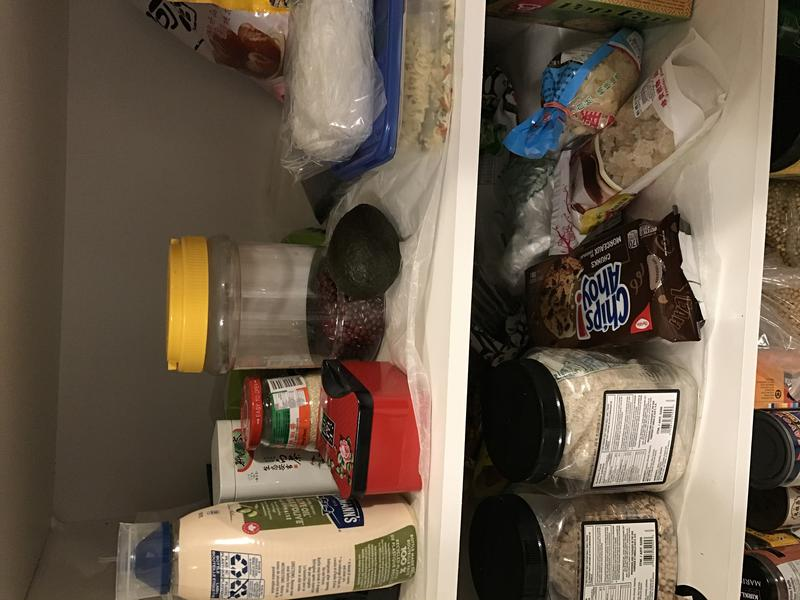avacado: (320, 194, 407, 303)
